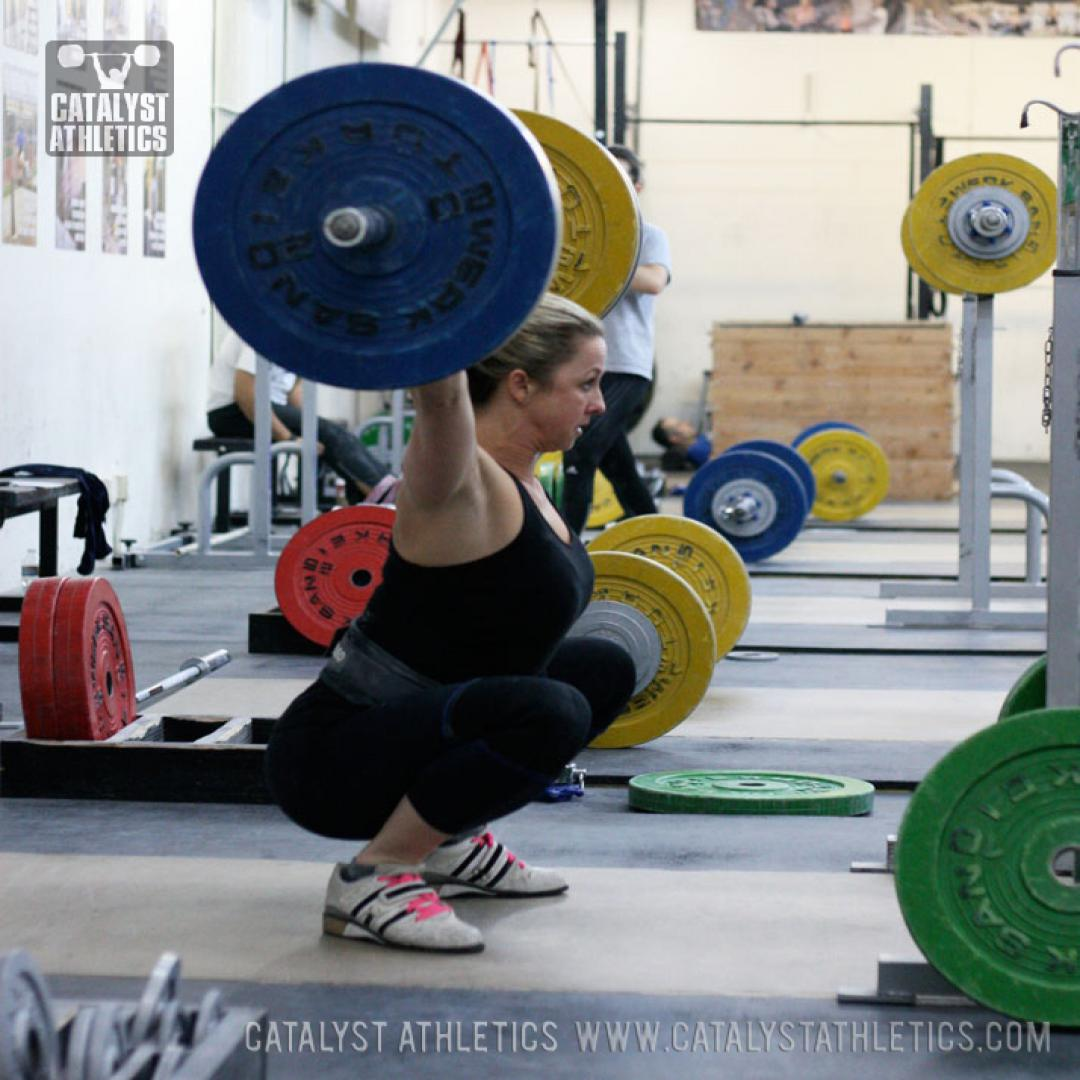Bar: (320, 206, 370, 248)
Barbell: (195, 60, 557, 390)
